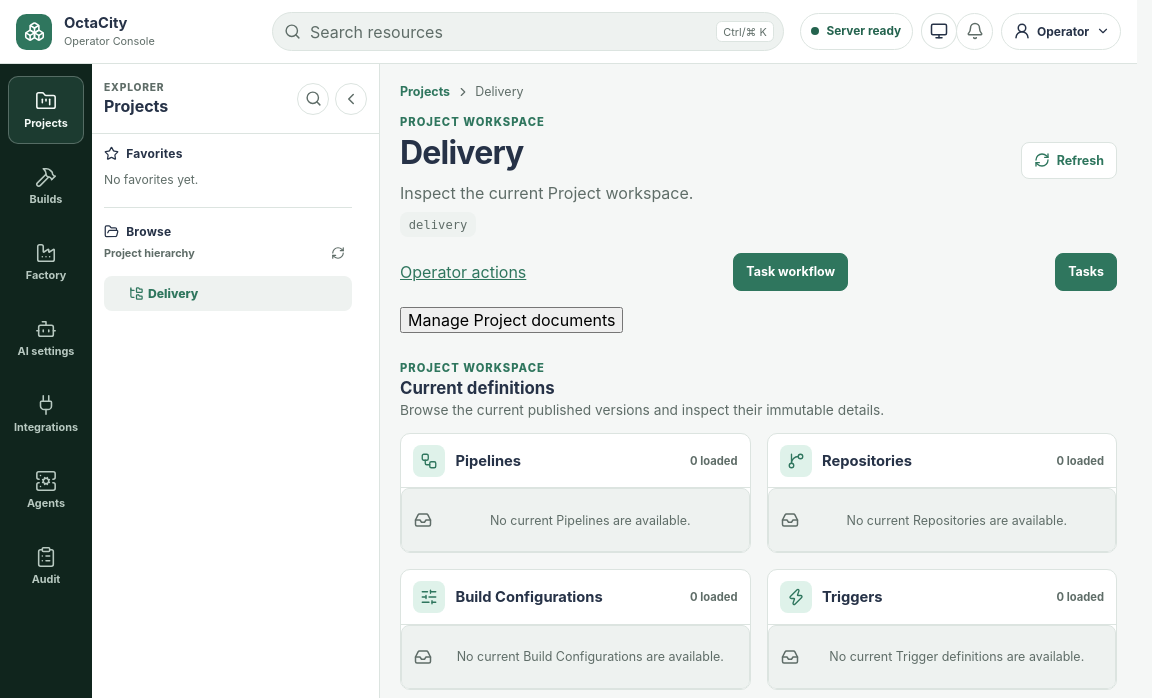
it: rejects substituted content with the same artifact id but a different retained digest
Click the button "Manage Project documents": (512, 320) [400, 307, 624, 333]
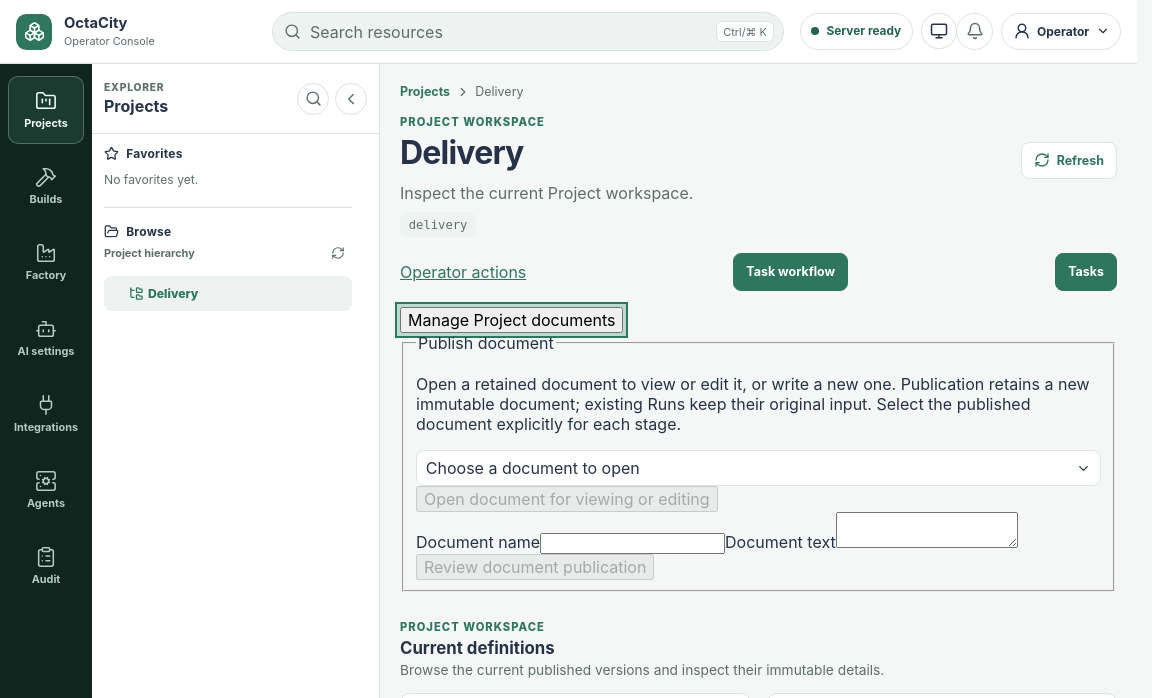
Click the dropdown named "Retained Project document": (533, 468) [416, 450, 1101, 486]
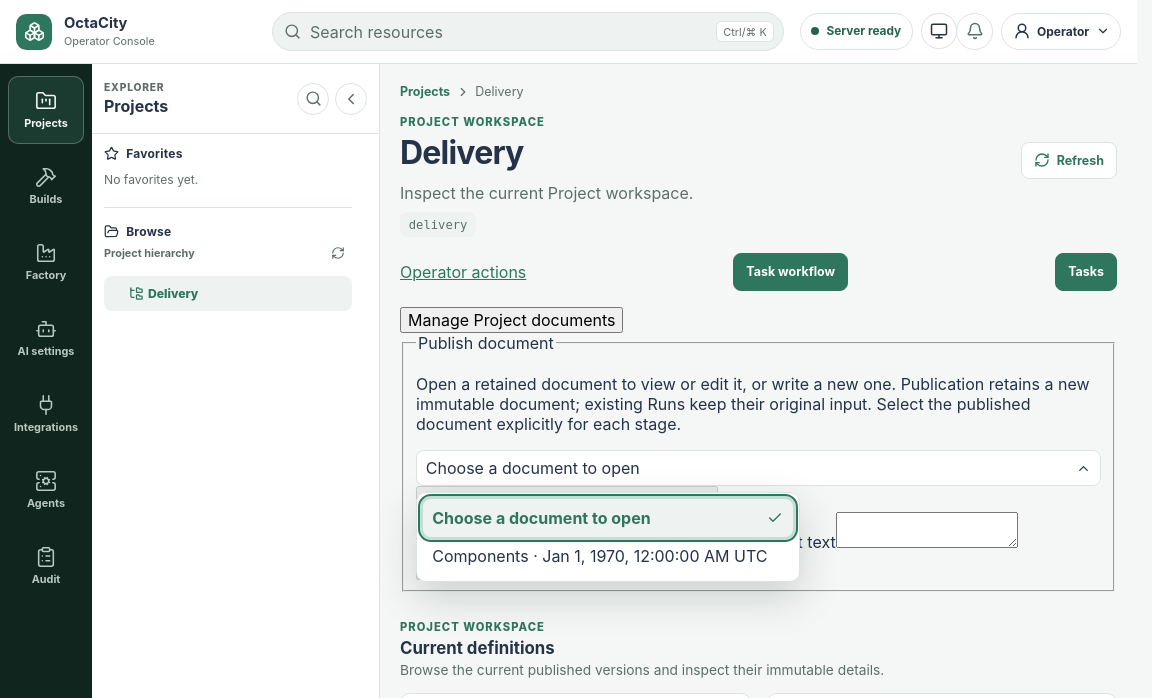
Click the option "Components · Jan 1, 1970, 12:00:00 AM UTC": (608, 556) [423, 537, 793, 575]
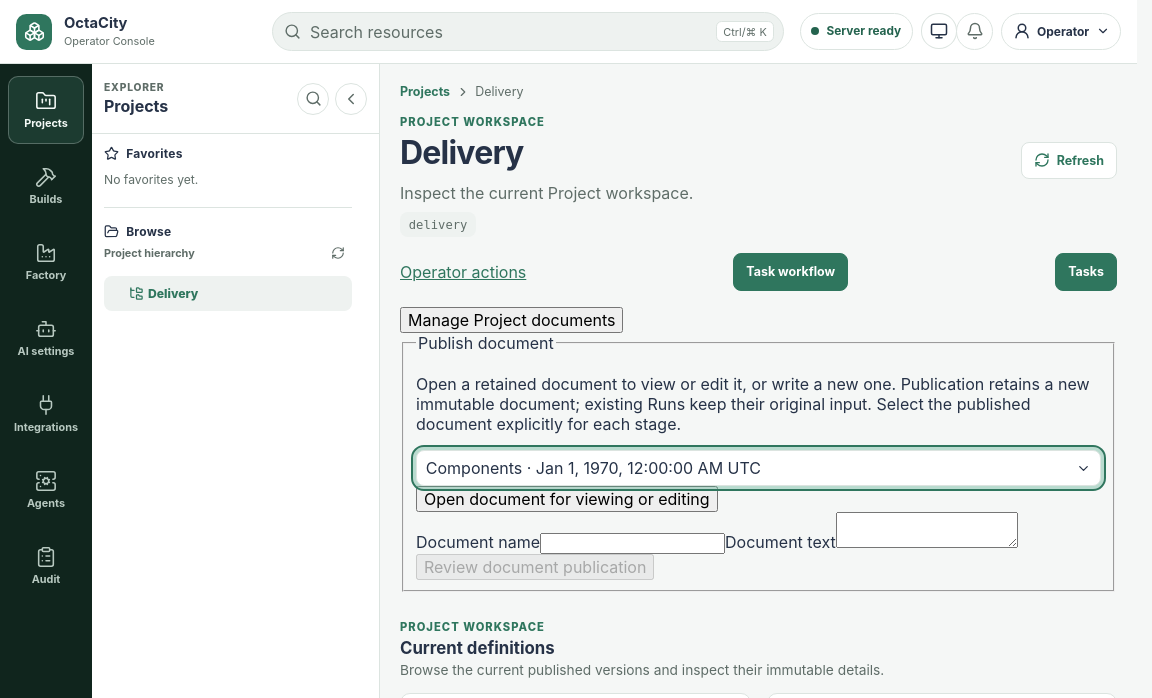
Click the button "Open document for viewing or editing": (567, 499) [416, 486, 718, 512]
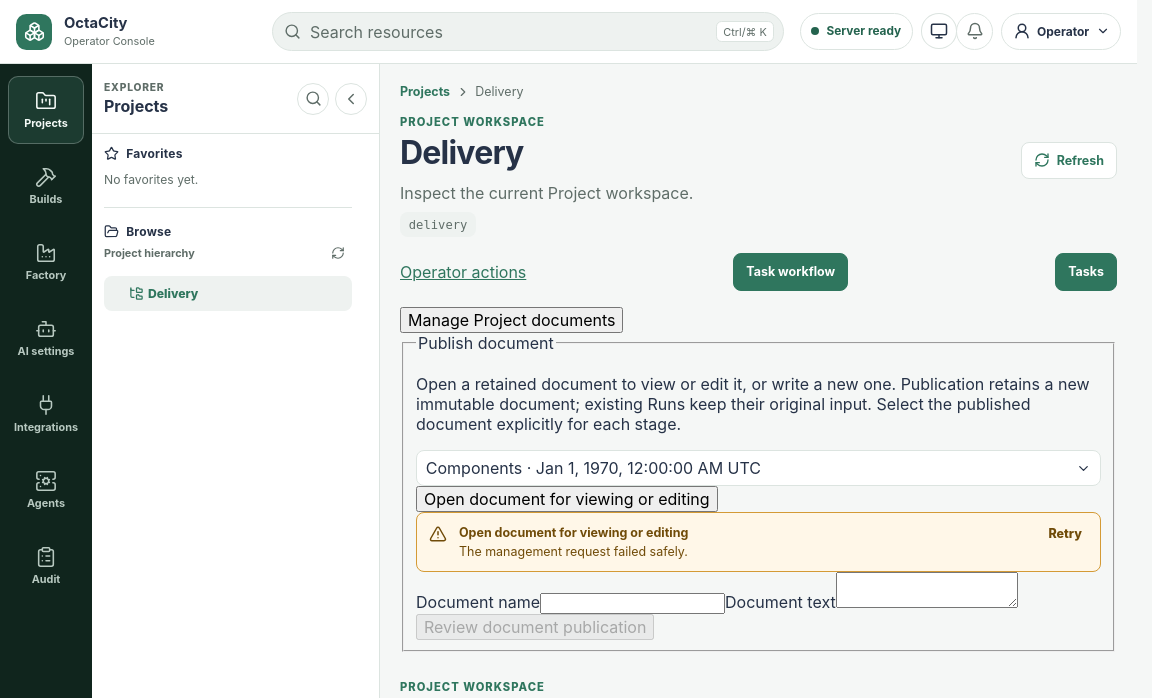
expect the text box labelled "Document text" is empty: met, box [836, 572, 1018, 608]
expect the message that starts with "Open document for viewing or editing" is shown: met, box [416, 512, 1101, 572]
